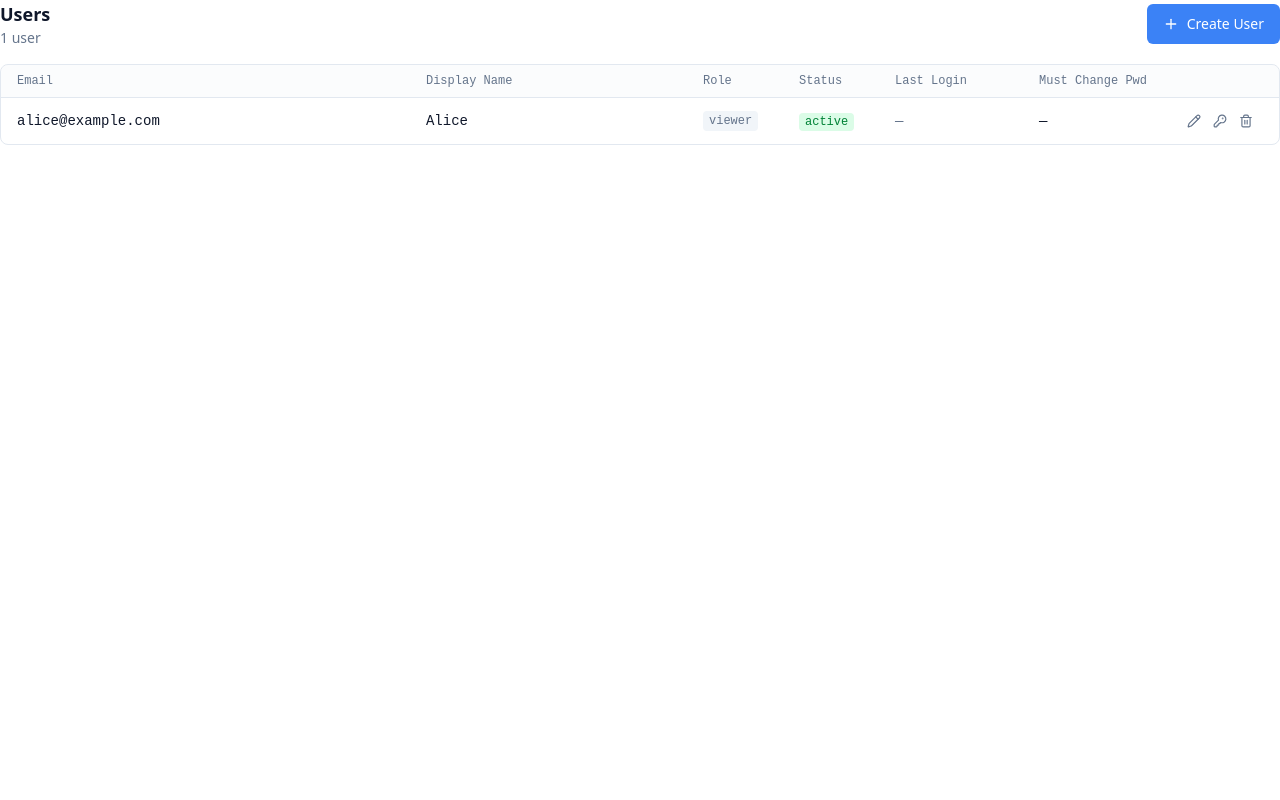
Test: UsersSection › clicking Reset Password button opens the reset dialog for that user
The image size is (1280, 800).
Click the button titled "Reset password": [1220, 121] box top-left (1209, 110), bottom-right (1231, 132)
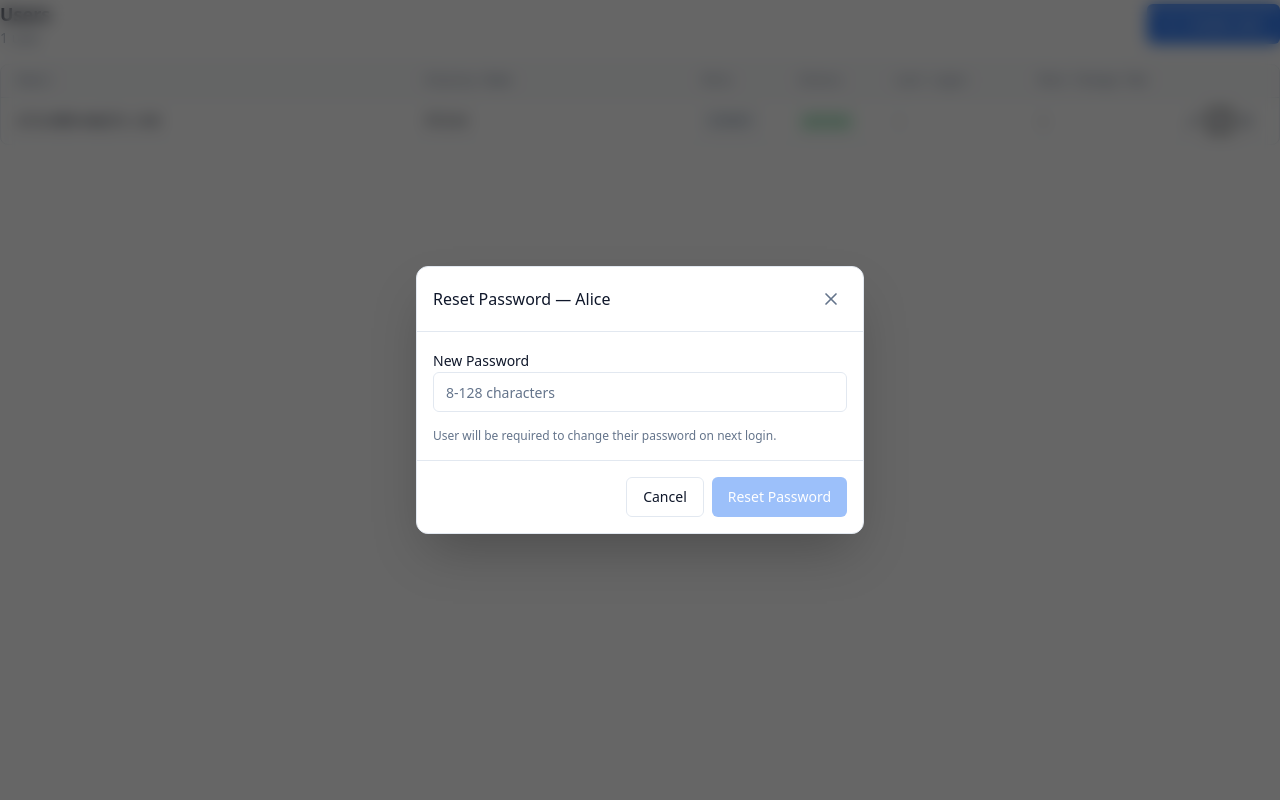
Check: the text "Reset Password — Alice" is shown, box top-left (433, 288), bottom-right (610, 310)
